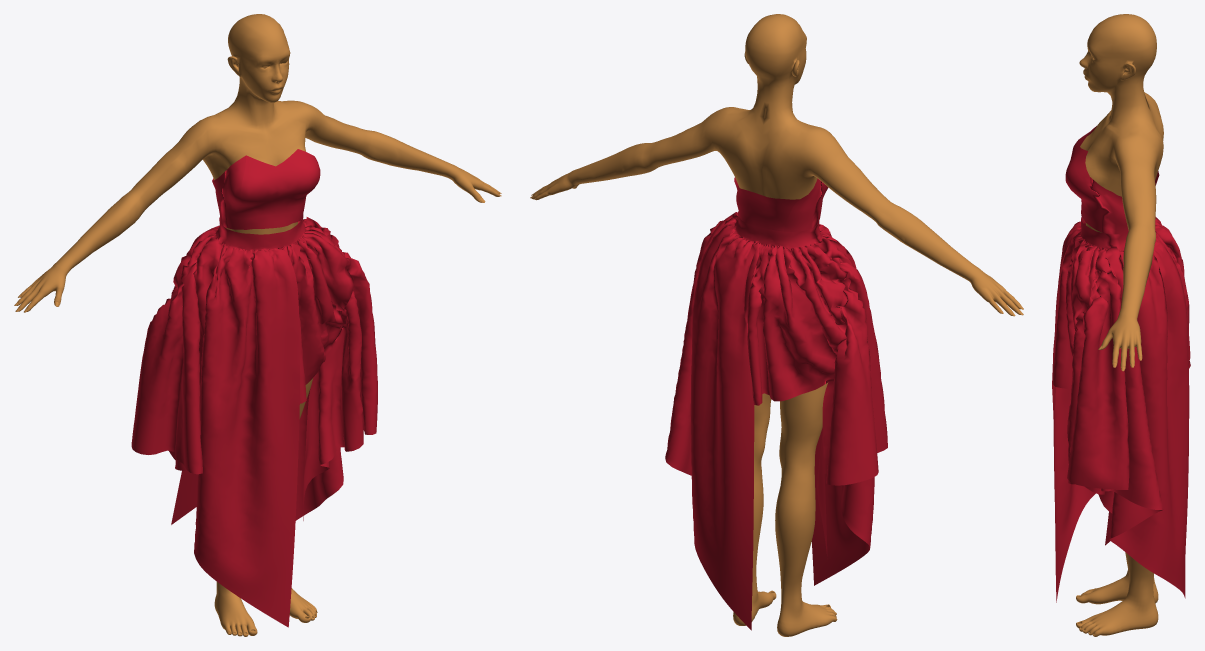
Rendered from dress2.glb.
3 renders of one model, left to right at view 1: azimuth 30°, elevation 25°; view 2: azimuth 150°, elevation 25°; view 3: azimuth 270°, elevation 25°, orthographic.
Visible parts, largest first — view 1: Project 1, Body; view 2: Project 1, Body; view 3: Project 1, Body.
Boxes of the visible parts, x1,y1,x2,y2 form: Project 1: (131,149,377,627); Body: (16,14,500,636); Project 1: (665,177,887,630); Body: (531,14,1021,636); Project 1: (1052,126,1190,602); Body: (1076,14,1163,636).
Bounding box in the file's own units: 1.58 × 1.85 × 0.3878.
